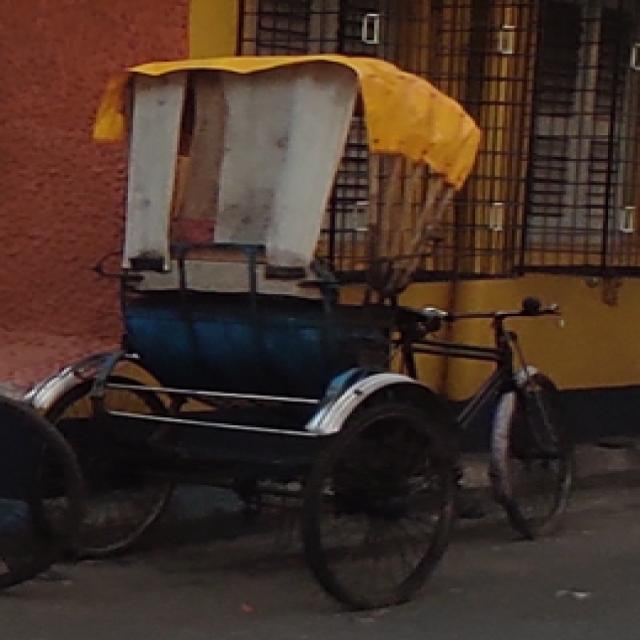rickshaw: (24, 48, 578, 612)
